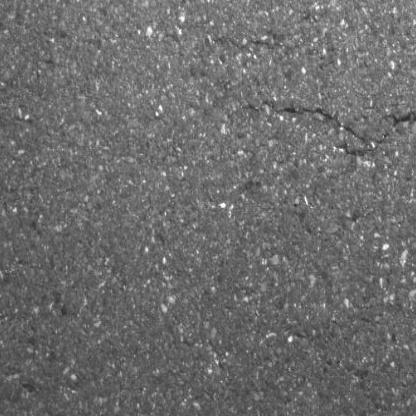Cracks: (239, 97, 416, 162)
